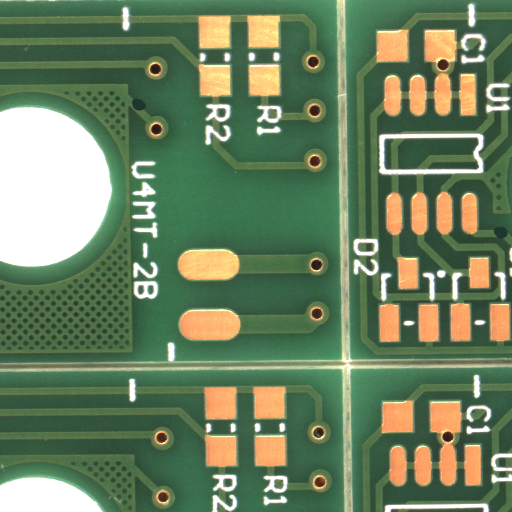Mouse_bite: (139, 104, 154, 117), (500, 232, 511, 243)
